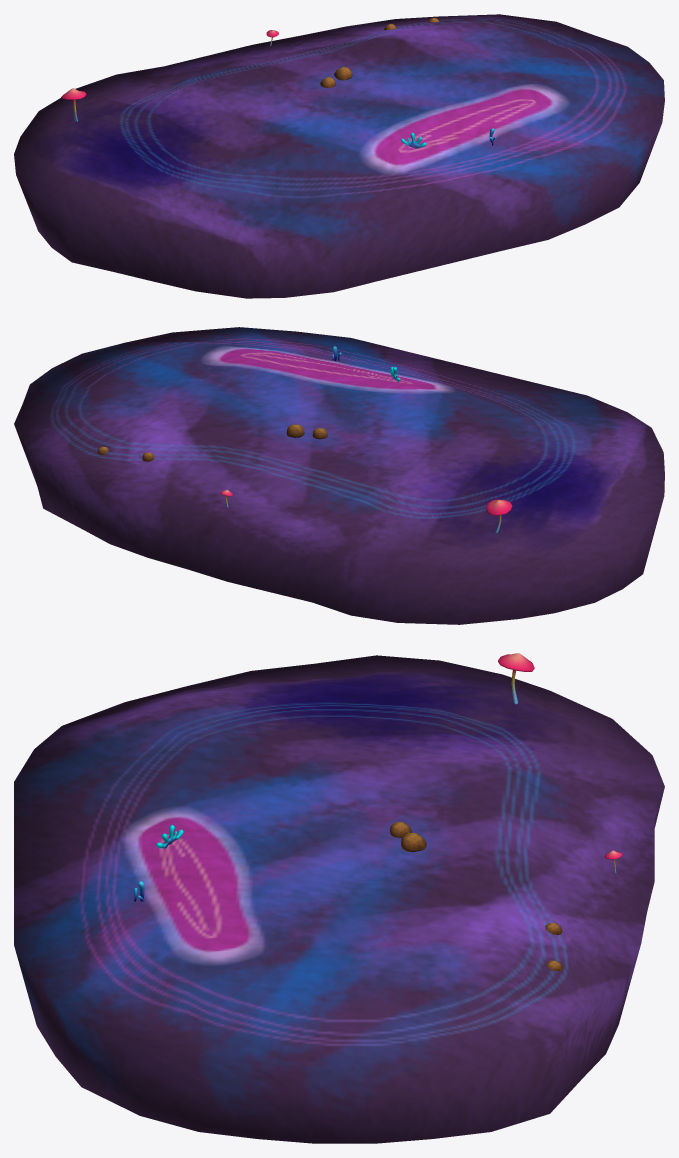
File: Cartoon Seaweed_13-2.fbx
3 renders of one model, top to bottom at view 1: azimuth 30°, elevation 25°; view 2: azimuth 150°, elevation 25°; view 3: azimuth 270°, elevation 25°, orthographic. The views are drawn at different scales.
Visible parts, largest first — view 1: Cartoon Seaweed_13.2; view 2: Cartoon Seaweed_13.2; view 3: Cartoon Seaweed_13.2.
Boxes of the visible parts, x1=… form: Cartoon Seaweed_13.2: x1=14, y1=14, x2=664, y2=298; Cartoon Seaweed_13.2: x1=14, y1=327, x2=664, y2=624; Cartoon Seaweed_13.2: x1=14, y1=653, x2=664, y2=1143.
Bounding box in the file's own units: 225 × 37.94 × 146.
1 material, 1 textured.
